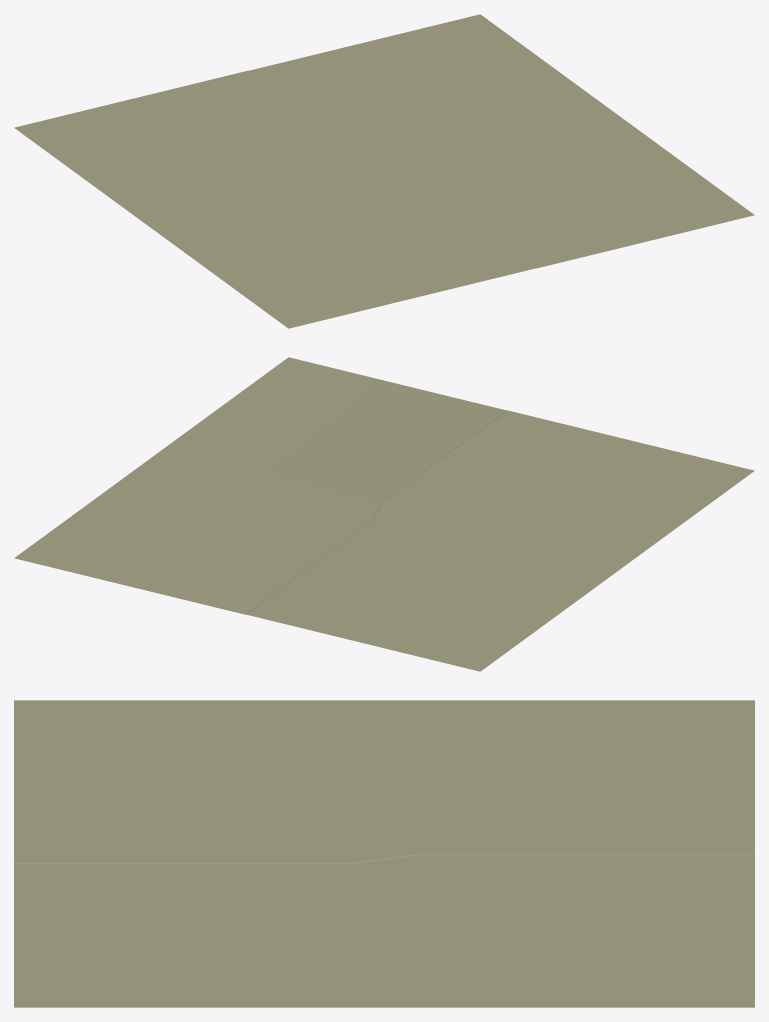
Rendered from terrain__e1871_postfire.glb.
3 views of the same model, one above another, from view 1: azimuth 30°, elevation 25°; view 2: azimuth 150°, elevation 25°; view 3: azimuth 270°, elevation 25° (orthographic). The views are drawn at different scales.
Parts seen in each view (by area): view 1: terrain__e1871_postfire; view 2: terrain__e1871_postfire; view 3: terrain__e1871_postfire.
Part boxes in pixels (x1=…): terrain__e1871_postfire: x1=14, y1=14, x2=754, y2=328; terrain__e1871_postfire: x1=14, y1=357, x2=754, y2=671; terrain__e1871_postfire: x1=14, y1=700, x2=754, y2=1007.
Size of the model in its own units: 10040 by 7.04 by 10240.
